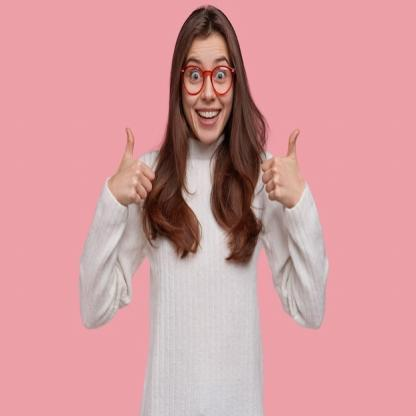thumb_up: (113, 124, 157, 209), (260, 127, 306, 208)
